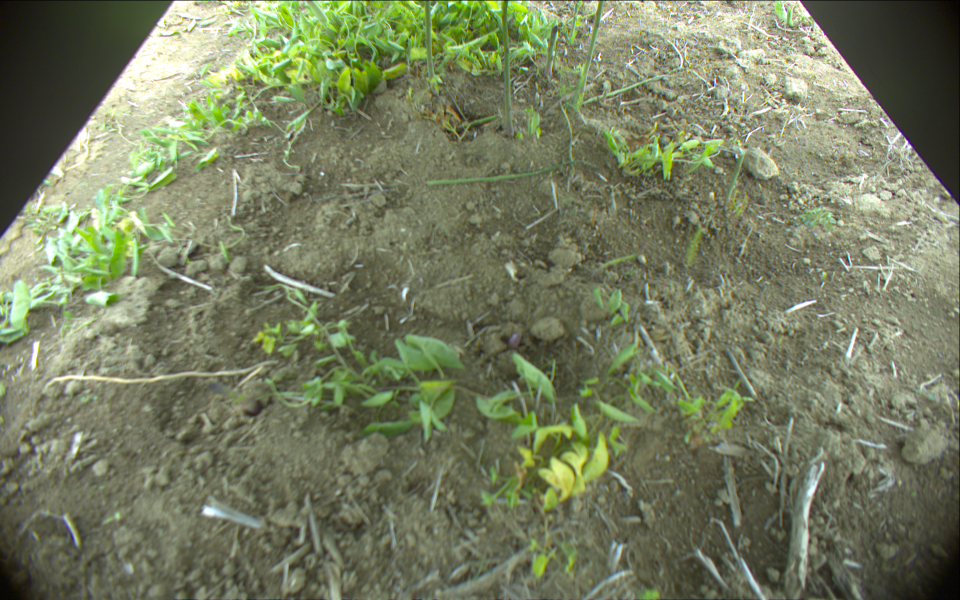aspa: (424, 158, 573, 187), (573, 1, 605, 112), (579, 70, 667, 108), (499, 1, 515, 137), (420, 1, 439, 92), (308, 1, 336, 29), (547, 24, 560, 77), (570, 1, 580, 41)
